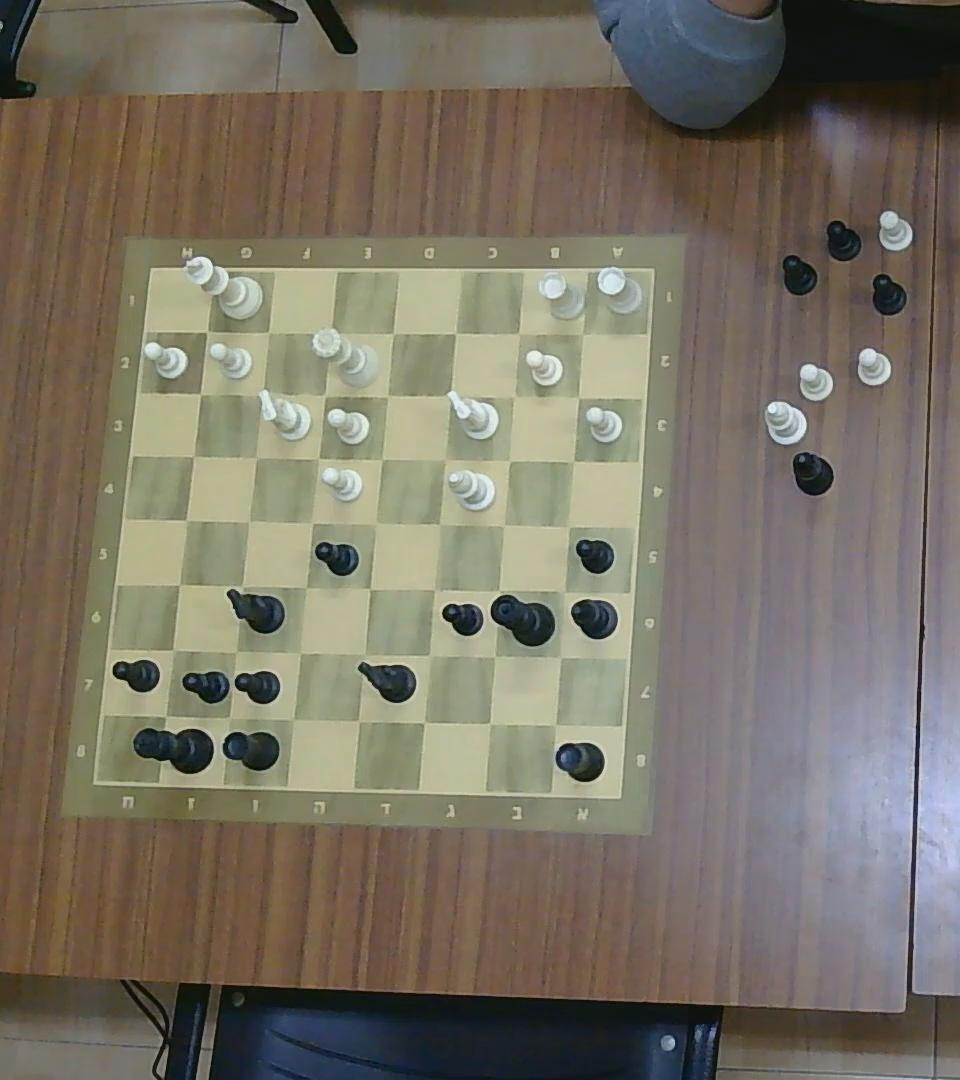xcorner: (215, 703, 242, 730), (280, 705, 305, 732), (477, 711, 503, 736), (153, 702, 178, 728), (543, 713, 568, 737), (161, 637, 185, 662), (347, 707, 370, 733), (412, 710, 436, 734), (561, 448, 585, 472), (288, 640, 311, 665), (482, 644, 505, 668), (548, 644, 571, 668), (427, 512, 450, 536), (167, 572, 191, 595), (230, 573, 253, 597), (419, 643, 442, 666), (352, 641, 375, 664), (318, 322, 341, 345), (487, 577, 510, 600), (175, 507, 197, 531), (224, 639, 246, 663), (238, 509, 260, 533), (363, 511, 385, 534), (196, 319, 218, 342), (251, 381, 272, 405), (182, 444, 204, 466), (422, 577, 444, 599), (438, 383, 460, 405), (493, 512, 513, 536), (295, 575, 315, 599), (553, 581, 575, 602), (258, 321, 279, 343), (558, 513, 578, 536), (360, 577, 380, 600), (371, 448, 392, 469), (498, 449, 518, 471), (301, 510, 321, 532), (568, 386, 590, 406), (445, 321, 465, 343), (383, 321, 403, 343), (434, 448, 454, 469), (376, 384, 396, 405), (308, 446, 327, 468), (189, 383, 209, 403), (315, 384, 334, 405), (247, 447, 266, 467), (504, 386, 523, 406), (510, 322, 529, 342), (573, 324, 592, 344)
